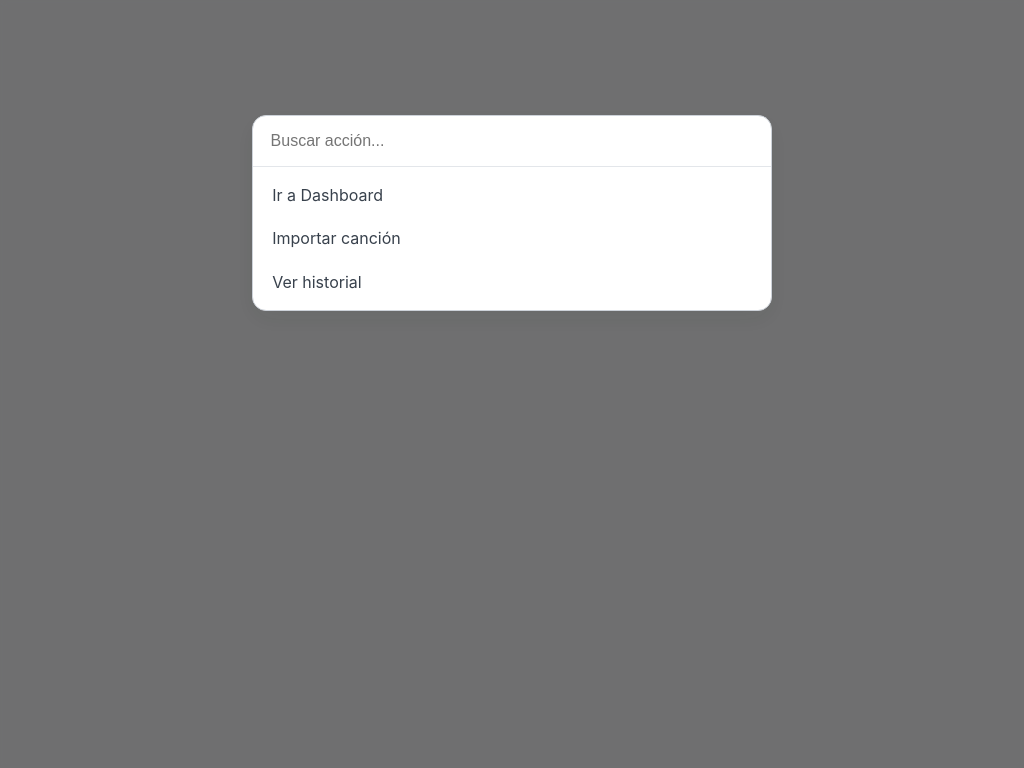
Test case: CommandPalette › filters actions as the user types
Type "historial" into the field with placeholder "Buscar acción...". click: (512, 142)
box: [253,116,771,167]
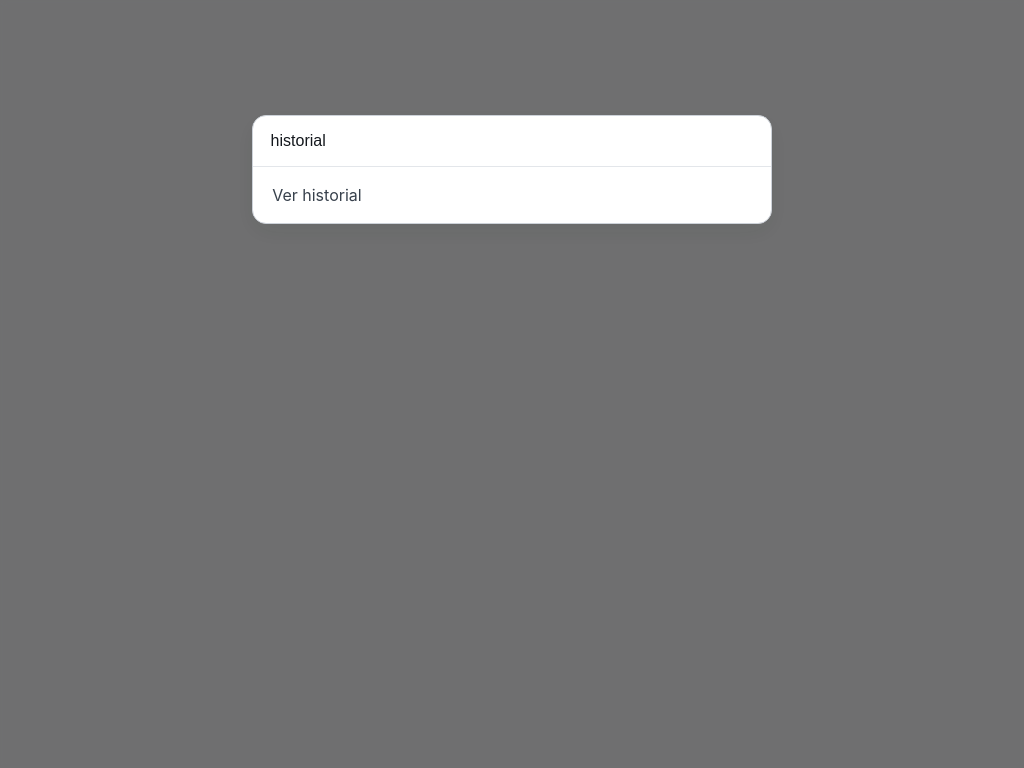
Expected: the list item "Ver historial" is shown, [272,185,362,205]
Expected: the list item "Ir a Dashboard" is gone
Expected: the list item "Importar canción" is gone
